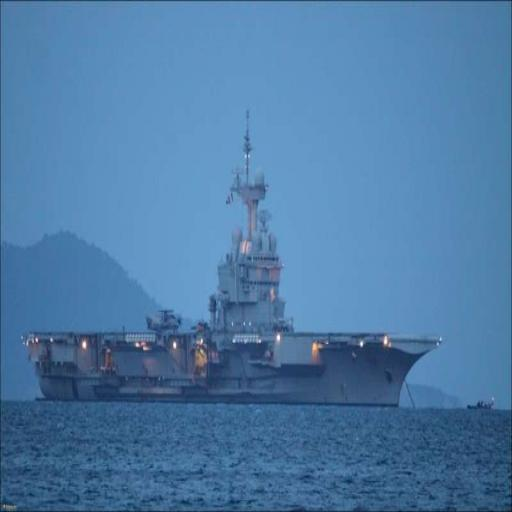Portanaves: (20, 98, 449, 411)
